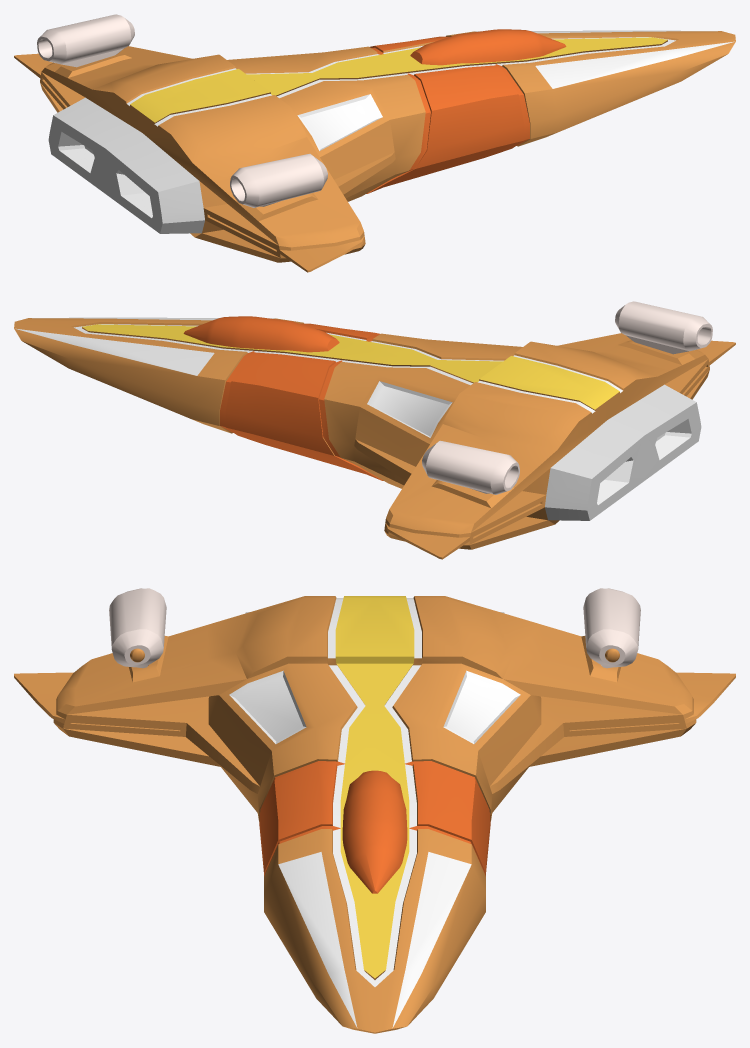
File: spaceship_6.fbx
The picture shows the model from 3 angles, top to bottom: view 1: azimuth 30°, elevation 25°; view 2: azimuth 150°, elevation 25°; view 3: azimuth 270°, elevation 25°; orthographic projection. The views are drawn at different scales.
Parts seen in each view (by area): view 1: Cube.003; view 2: Cube.003; view 3: Cube.003.
Boxes of the visible parts, x1,y1,x2,y2 form: Cube.003: (14, 14, 735, 272); Cube.003: (14, 301, 735, 559); Cube.003: (14, 588, 735, 1033).
Size of the model in its own units: 1743 by 288 by 1407.
